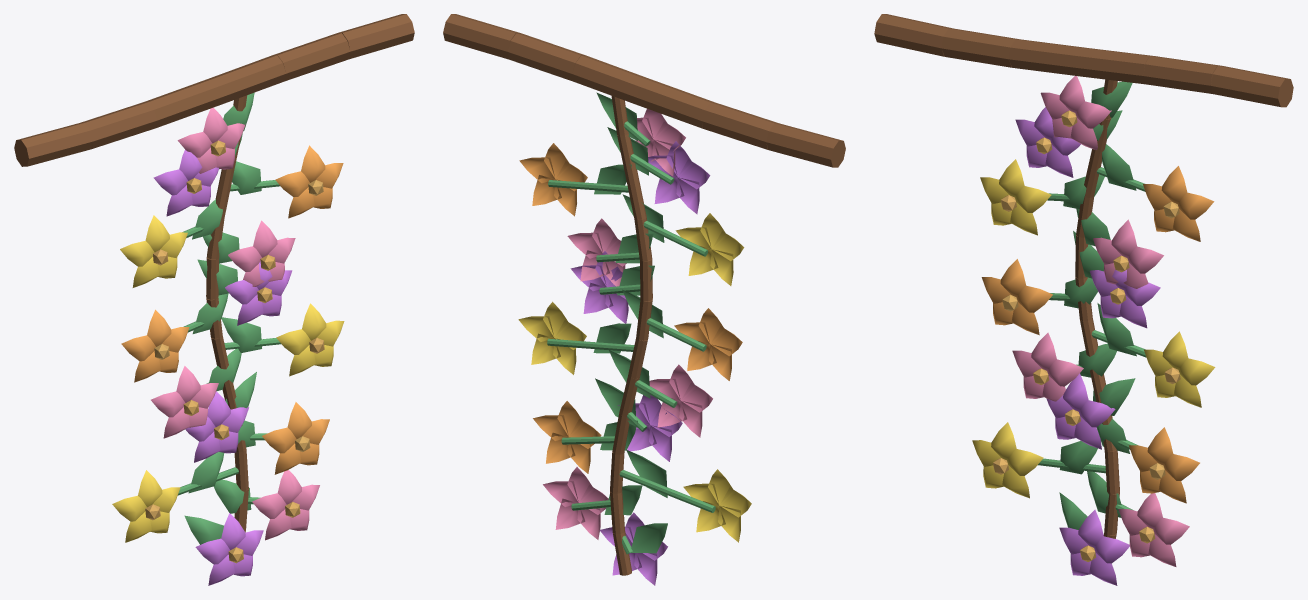
File: flower-vine.glb
The picture shows the model from 3 angles, left to right: view 1: azimuth 30°, elevation 25°; view 2: azimuth 150°, elevation 25°; view 3: azimuth 330°, elevation 25°; orthographic projection. The views are drawn at different scales.
Parts seen in each view (by area): view 1: Weathered branch, Weathered branch.003, Weathered branch.002, Weathered branch.004, Weathered branch.001, Weathered branch.005, Veined pointed leaf.006, Veined pointed leaf.002, Veined pointed leaf.011, Veined pointed leaf.001, Veined pointed leaf, Veined pointed leaf.007 (+29 smaller); view 2: Weathered branch, Weathered branch.003, Weathered branch.002, Weathered branch.004, Weathered branch.001, Weathered branch.005, Veined pointed leaf, Flower twig.002, Veined pointed leaf.002, Veined pointed leaf.006, Flower twig.006, Veined pointed leaf.011 (+36 smaller); view 3: Weathered branch.005, Weathered branch, Weathered branch.001, Weathered branch.004, Weathered branch.002, Weathered branch.003, Veined pointed leaf.002, Veined pointed leaf.006, Veined pointed leaf.011, Veined pointed leaf.005, Veined pointed leaf.004, Veined pointed leaf.013 (+32 smaller).
Boxes of the visible parts, x1,y1,x2,y2 form: Weathered branch: (14, 122, 93, 166); Weathered branch.003: (208, 55, 285, 104); Weathered branch.002: (144, 79, 221, 127); Weathered branch.004: (273, 33, 350, 81); Weathered branch.001: (81, 102, 157, 149); Weathered branch.005: (338, 14, 414, 59); Veined pointed leaf.006: (221, 317, 261, 352); Veined pointed leaf.002: (188, 452, 224, 493); Veined pointed leaf.011: (232, 161, 261, 194); Veined pointed leaf.001: (213, 479, 251, 513); Veined pointed leaf: (184, 515, 223, 544); Veined pointed leaf.007: (192, 293, 228, 333); Weathered branch: (766, 123, 845, 167); Weathered branch.003: (572, 55, 650, 105); Weathered branch.002: (637, 79, 713, 128); Weathered branch.004: (507, 33, 585, 81); Weathered branch.001: (701, 102, 778, 149); Weathered branch.005: (443, 14, 520, 59); Veined pointed leaf: (630, 523, 667, 553); Flower twig.002: (619, 470, 715, 512); Veined pointed leaf.002: (626, 449, 667, 497); Veined pointed leaf.006: (593, 323, 631, 353); Flower twig.006: (547, 338, 634, 351); Veined pointed leaf.011: (594, 164, 631, 194); Weathered branch.005: (1211, 66, 1293, 107); Weathered branch: (874, 14, 953, 56); Weathered branch.001: (941, 28, 1018, 67); Weathered branch.004: (1143, 56, 1221, 94); Weathered branch.002: (1009, 39, 1086, 76); Weathered branch.003: (1076, 48, 1155, 84); Veined pointed leaf.002: (1059, 441, 1097, 474); Veined pointed leaf.006: (1097, 303, 1136, 356); Veined pointed leaf.011: (1102, 144, 1136, 190); Veined pointed leaf.005: (1078, 343, 1116, 377); Veined pointed leaf.004: (1093, 378, 1135, 415); Veined pointed leaf.013: (1091, 81, 1132, 117).
Bounding box in the file's own units: 3.01 × 3.87 × 0.2668.
